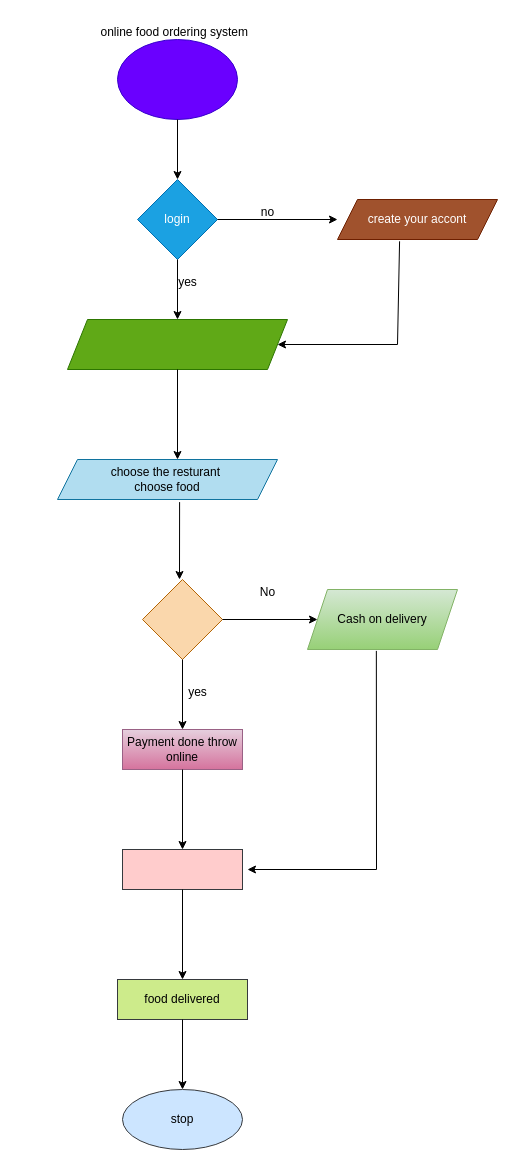
This 515x1167 diagram has some shape labels left out. Here are the shapes that lost their labels. From the top down, the centre of each, then its label:
(x=177, y=79): start
(x=177, y=344): Access location of user
(x=182, y=619): Payment thow online
(x=182, y=869): order confirmed
